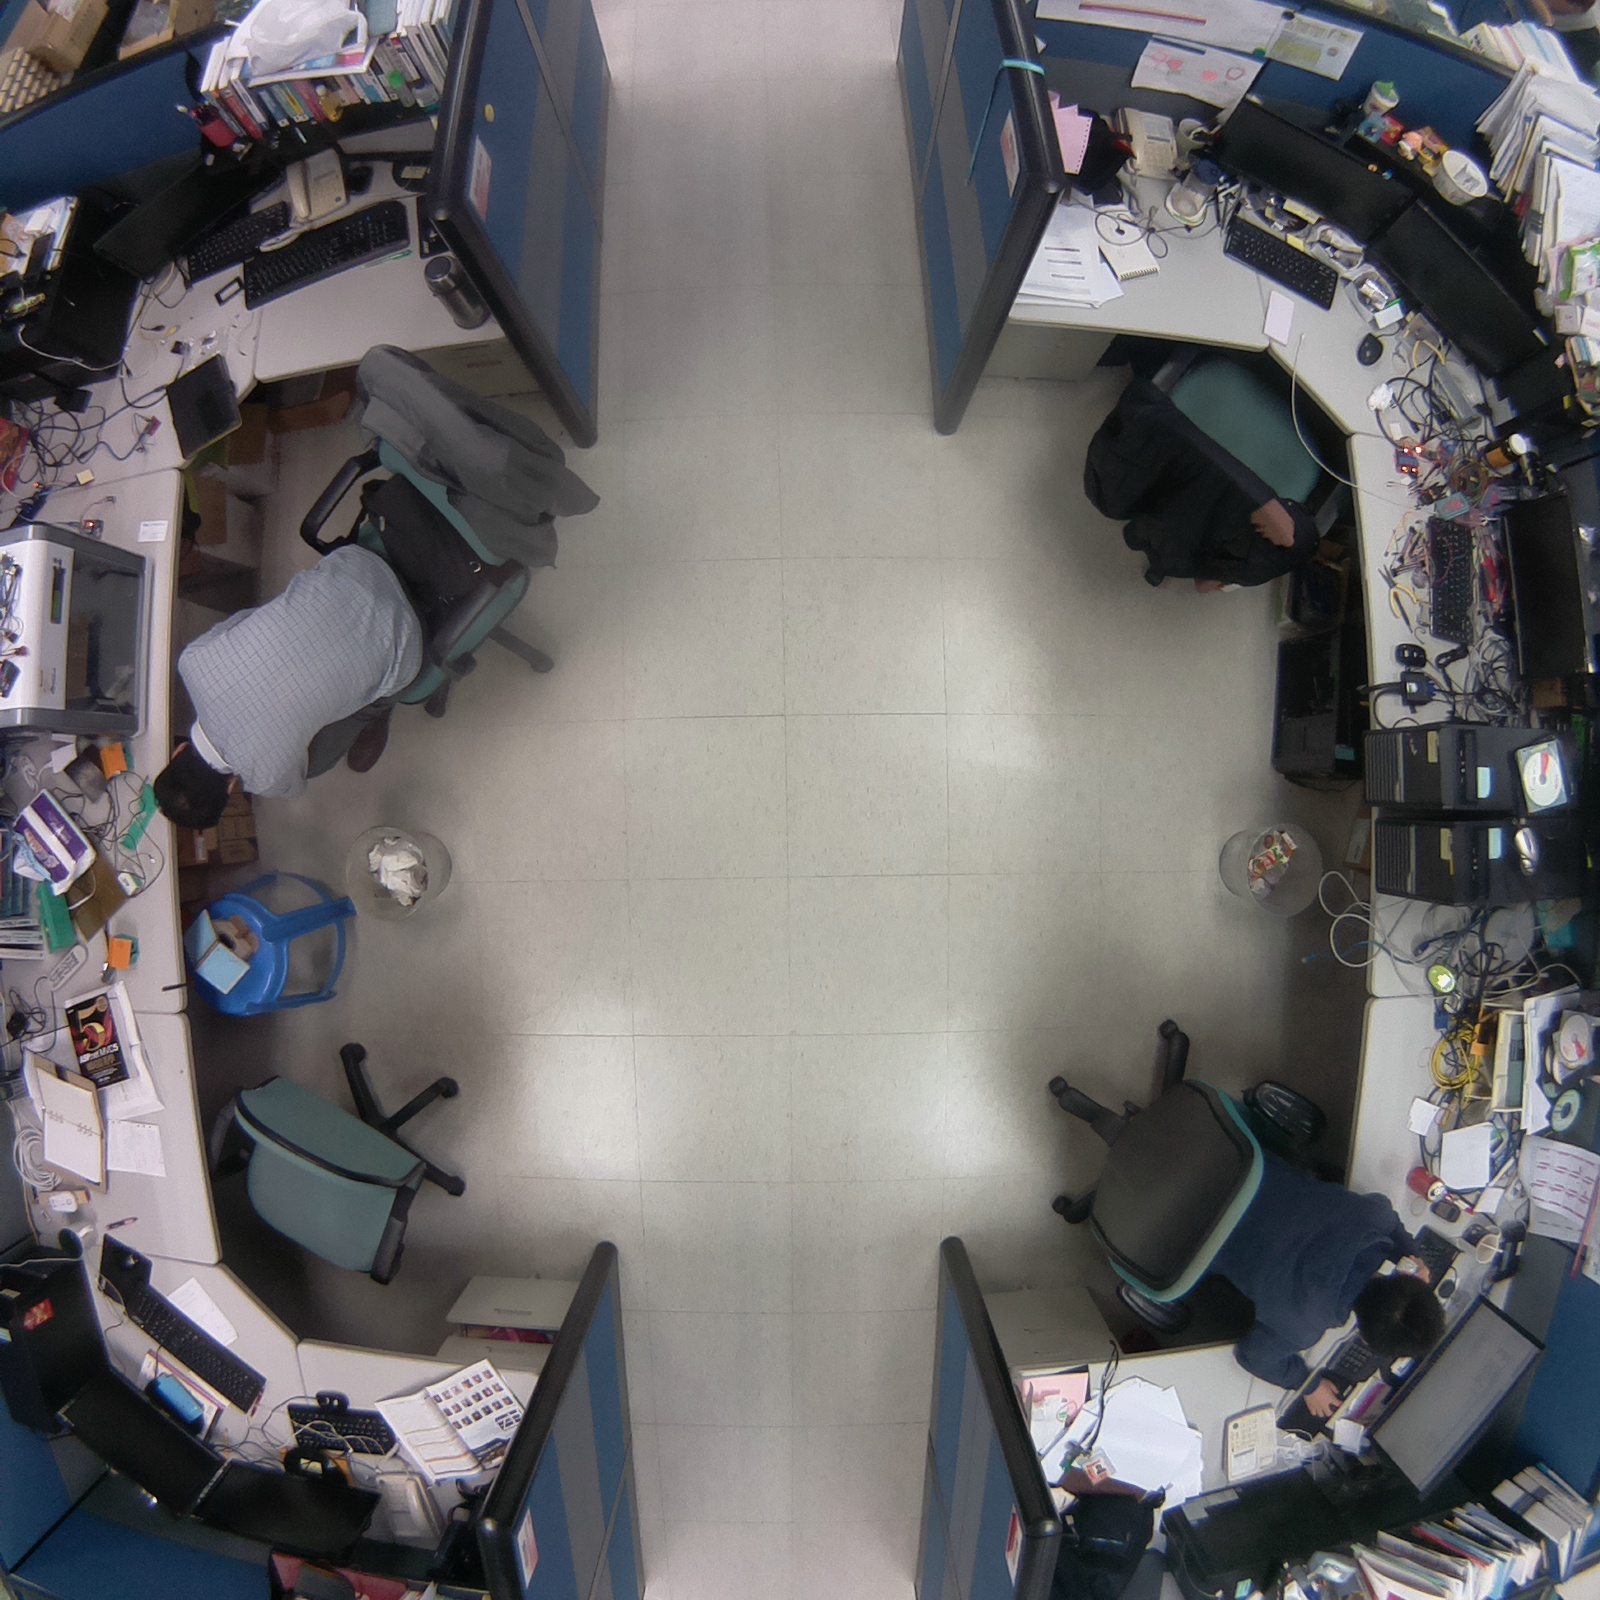chair: (1076, 327, 1365, 606), (181, 1032, 494, 1291)
head: (142, 727, 240, 836), (1351, 1257, 1449, 1361)
sitting: (136, 327, 604, 855), (1017, 999, 1468, 1422)
